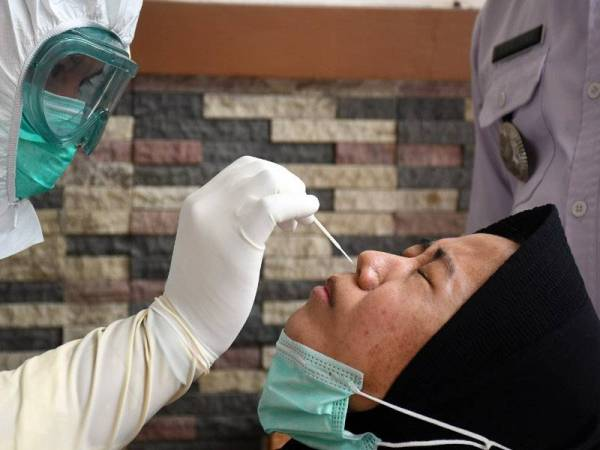Gloves: (143, 155, 322, 380)
Goggles: (25, 22, 145, 151)
mask_weared_incorrect: (254, 230, 467, 438)
with_mask: (17, 58, 97, 199)
